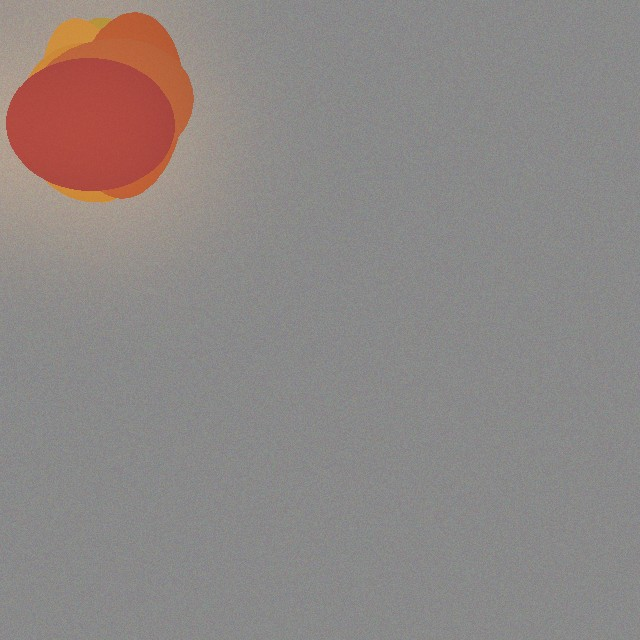fire: (27, 57, 175, 207)
